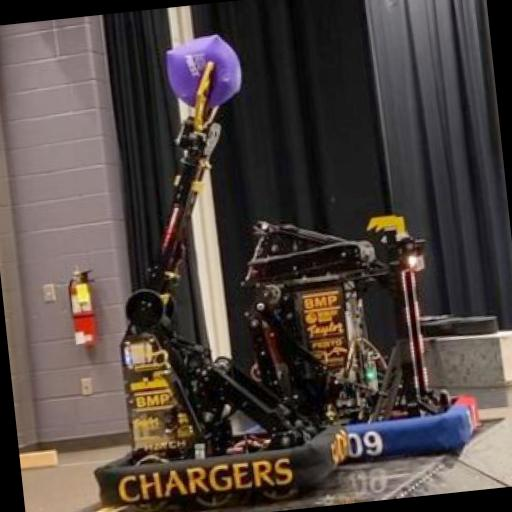robot: (26, 19, 361, 512), (235, 188, 504, 474)
